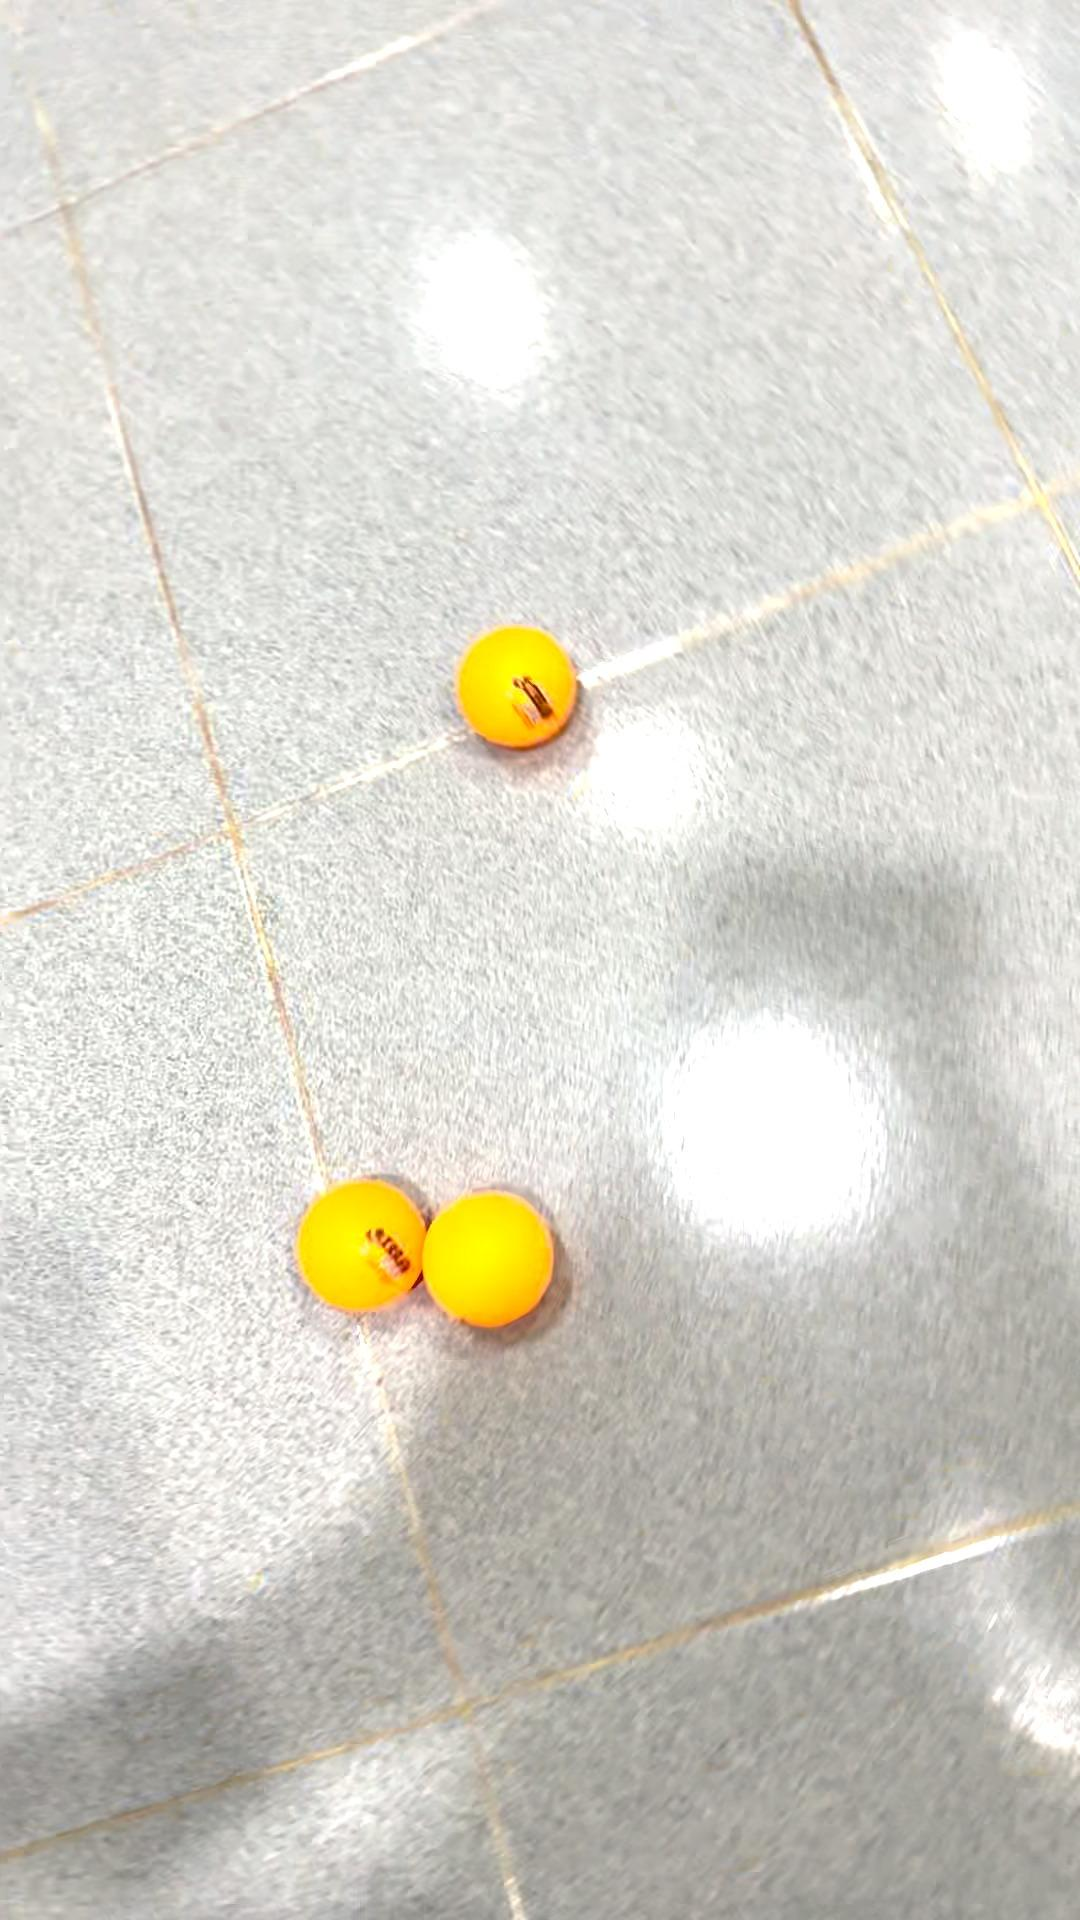oball: (423, 1185, 566, 1340), (285, 1164, 422, 1324), (442, 621, 582, 762)
